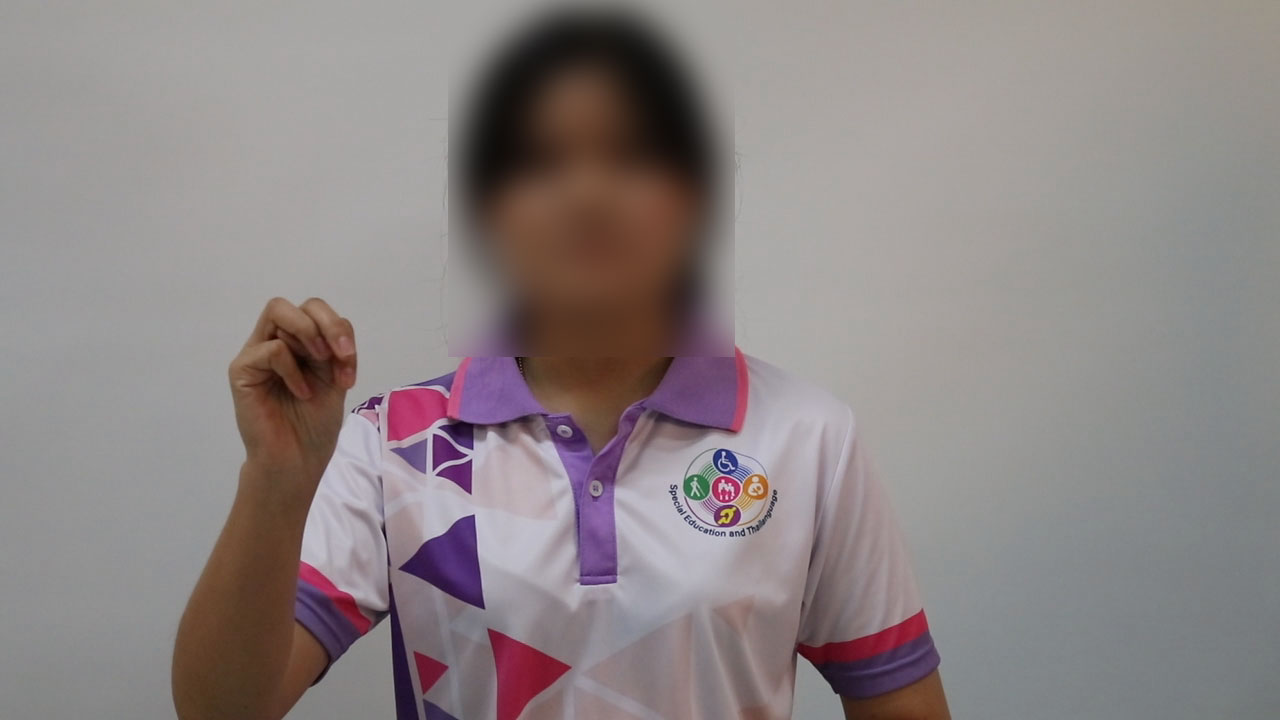mor: (216, 265, 372, 487)
